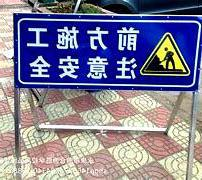sign: (16, 15, 202, 87)
